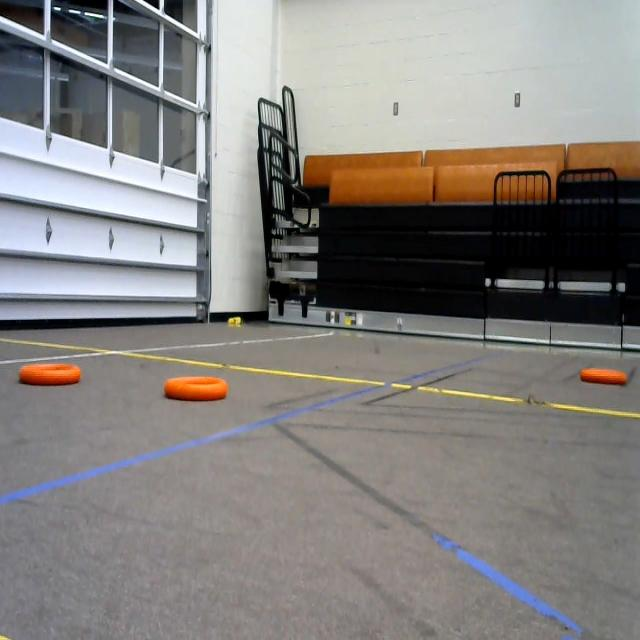note: (14, 357, 84, 393), (162, 375, 232, 402), (577, 362, 632, 393)
